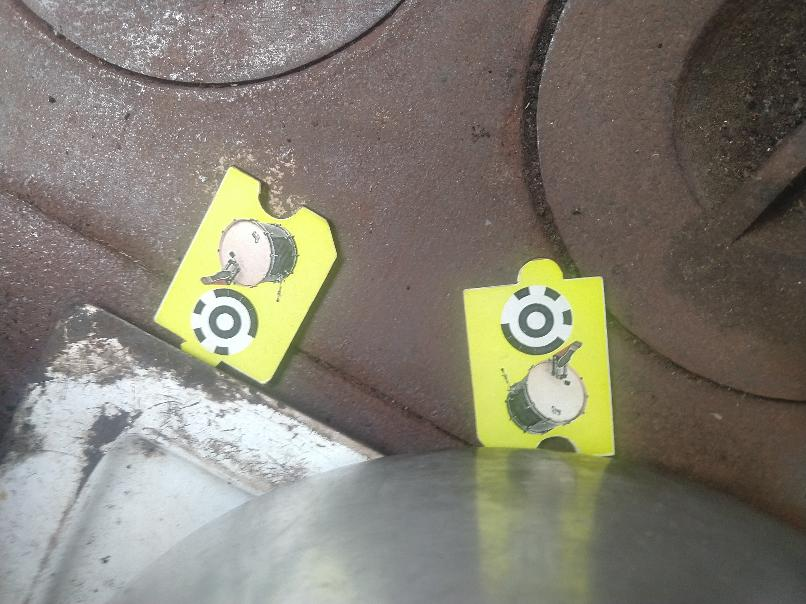bumbo: (148, 166, 339, 389), (460, 258, 615, 462)
